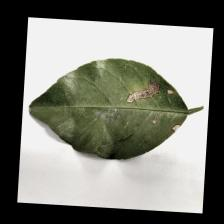canker: (116, 78, 191, 138)
